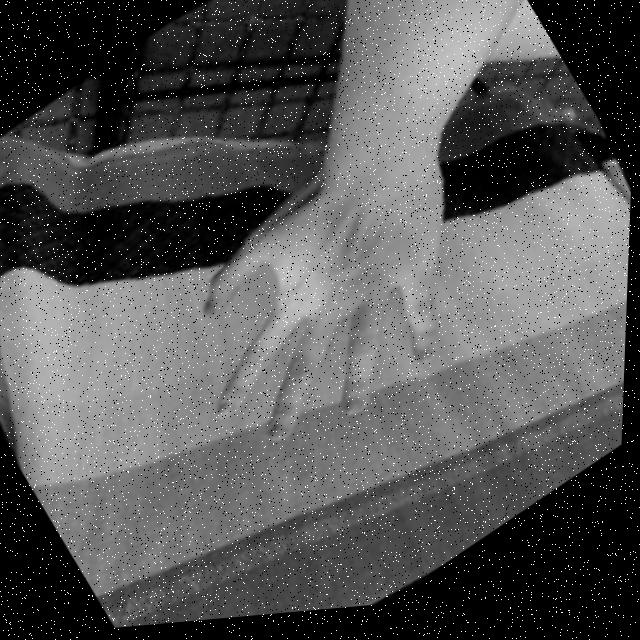hand: (137, 121, 521, 500)
